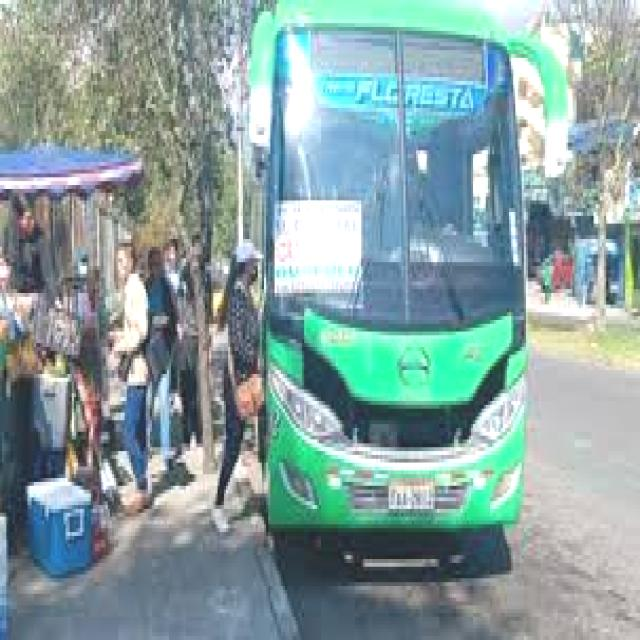BUS: (252, 0, 524, 545)
